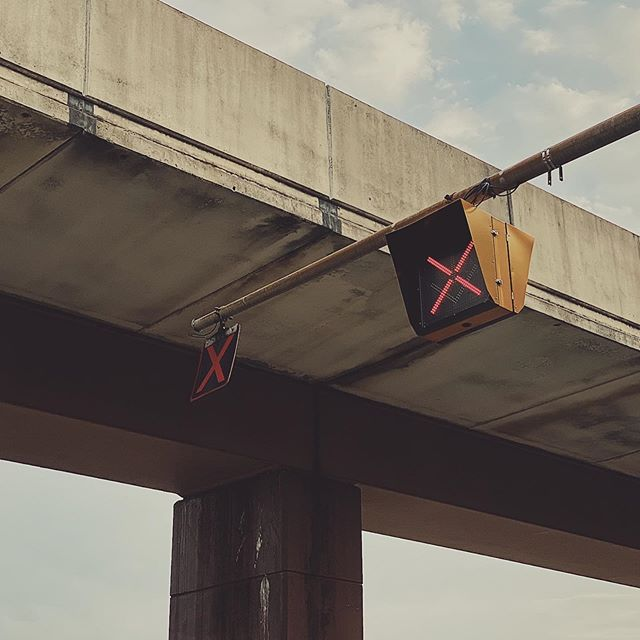bridge: (3, 5, 620, 576)
